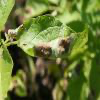Potato leaf late blight: (4, 13, 91, 61)
